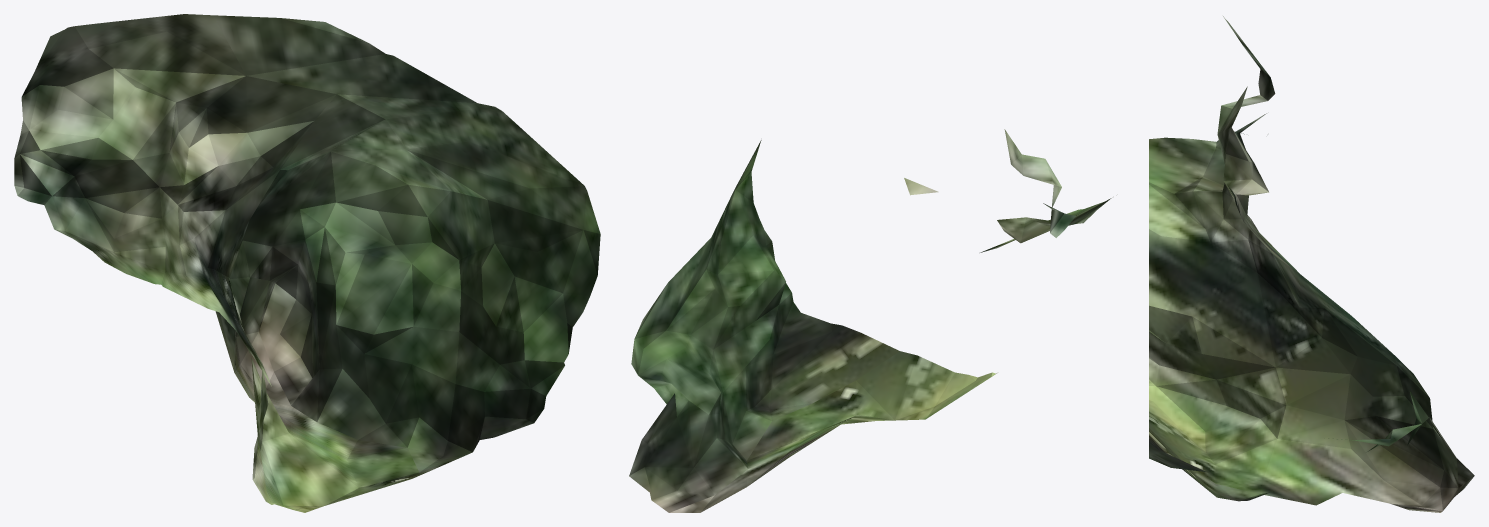
The picture shows the model from 3 angles, left to right: view 1: azimuth 30°, elevation 25°; view 2: azimuth 150°, elevation 25°; view 3: azimuth 270°, elevation 25°; orthographic projection. The views are drawn at different scales.
Bounding box in the file's own units: 10.88 × 11.59 × 9.17.
Materials: 1 (1 with a texture image).
